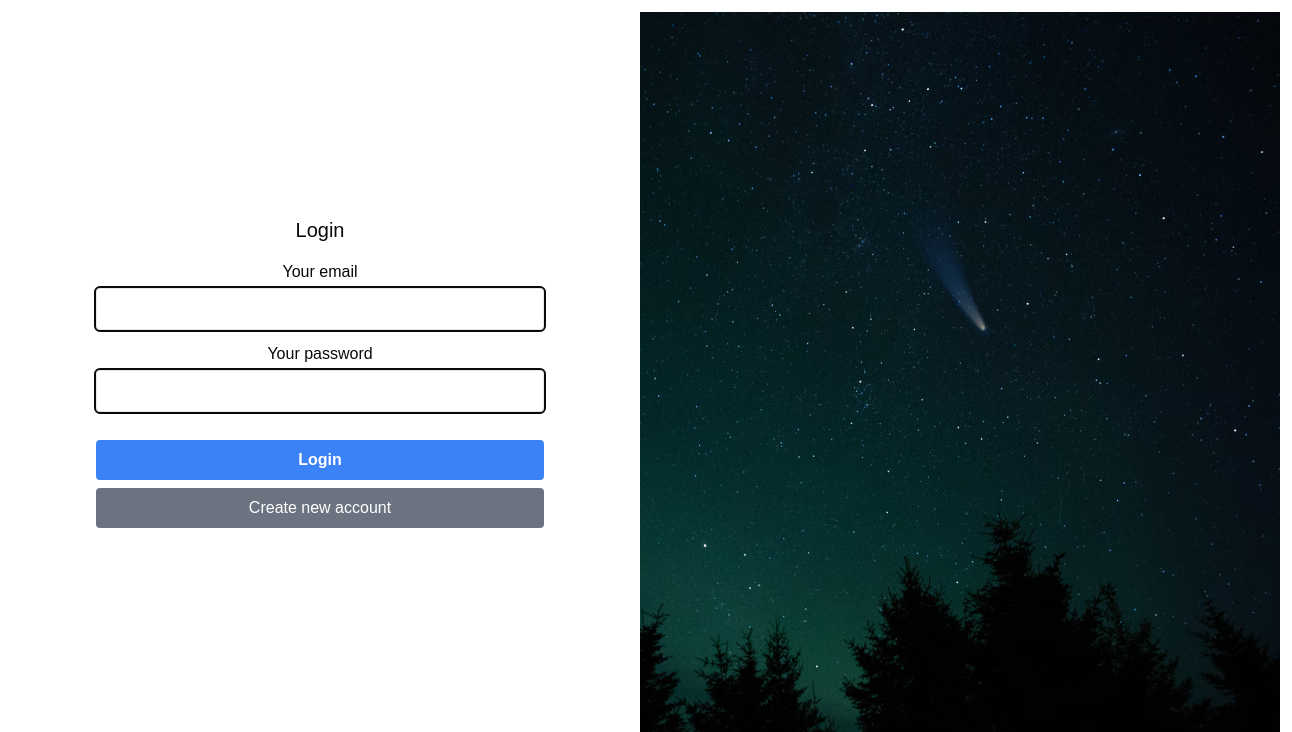
Test: Form › shows an error message
Type "test@example.com" into the field labelled "Your email" at [320, 309], box [96,288,544,330]
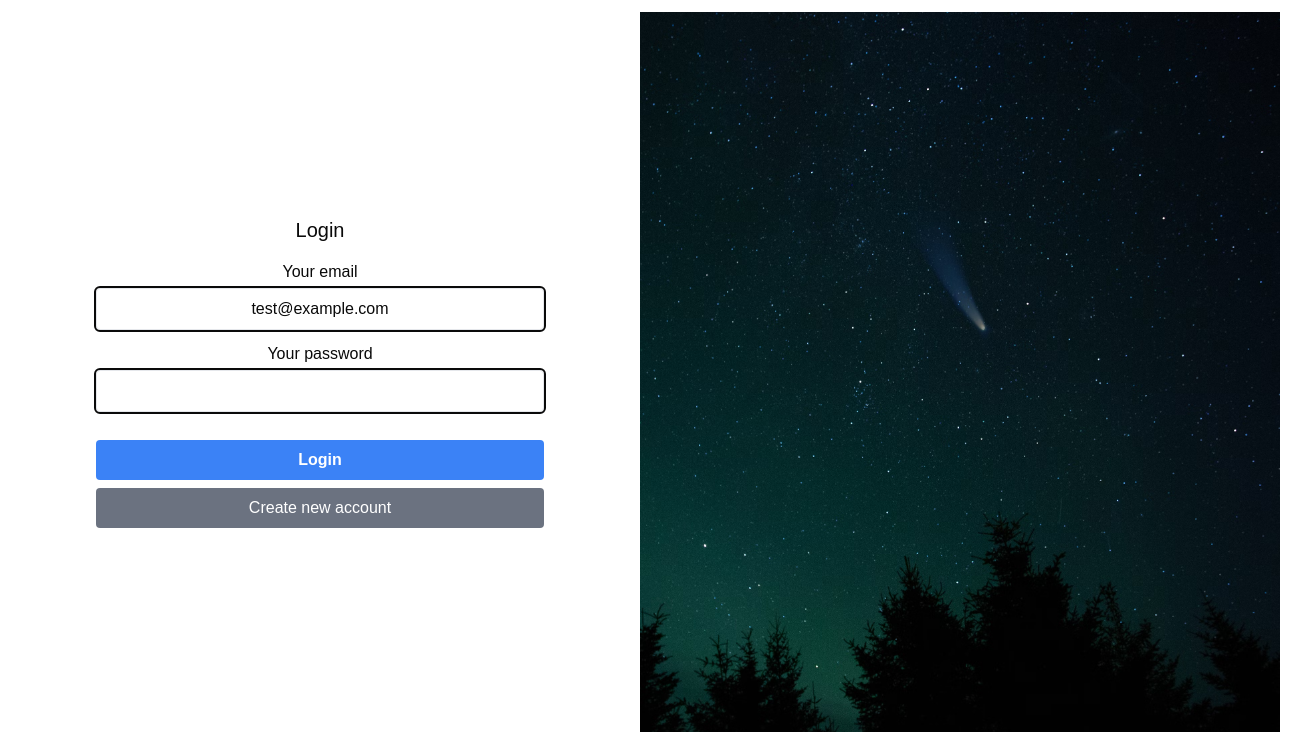
Type "short" into the password field labelled "Your password" at [320, 391], box [96,370,544,412]
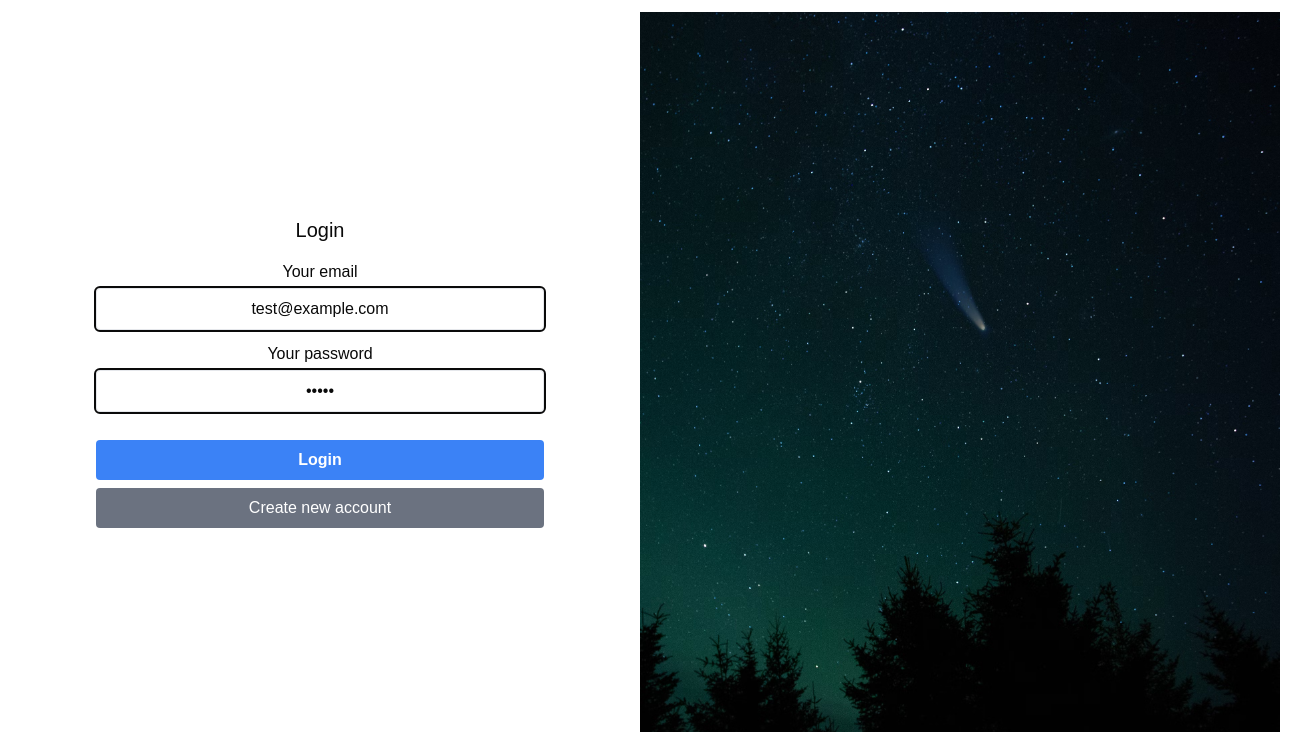
Click the button with test id "button-switch" at [320, 460], box [96,440,544,480]
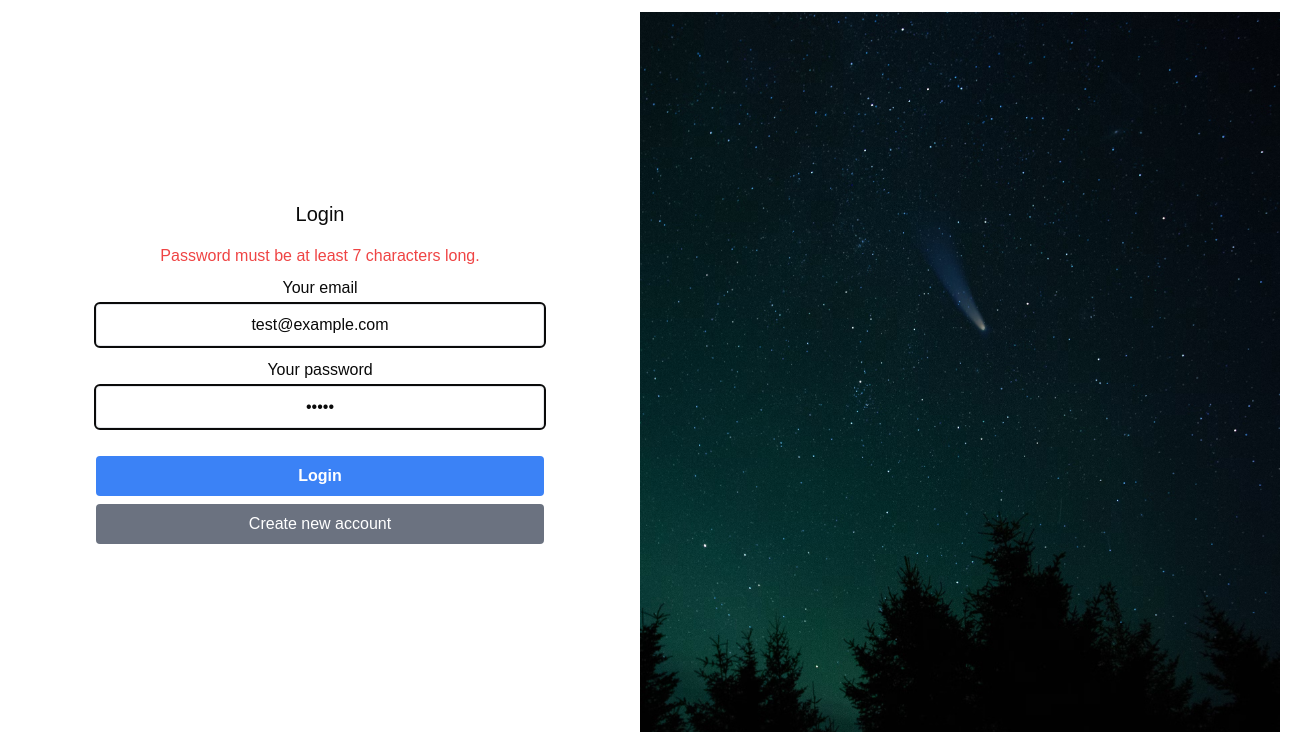
Now the text with test id "error-msg" reads "Password must be at least 7 characters long.", box [160,247,480,264]
